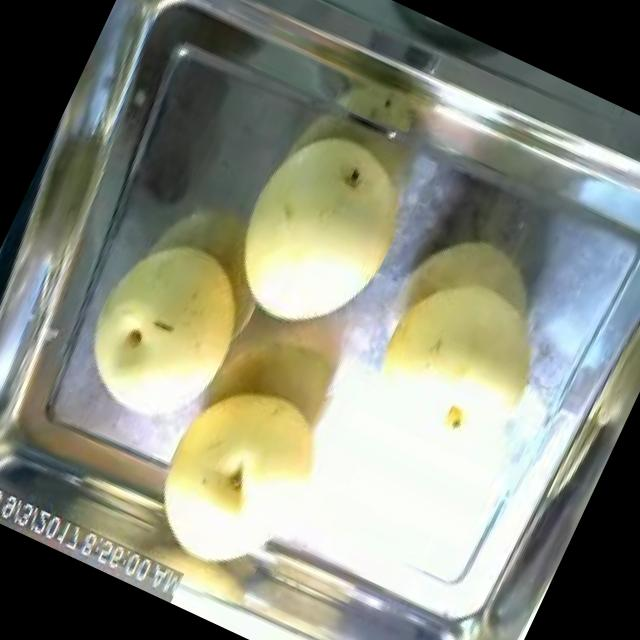Fruit: (202, 104, 438, 361), (352, 207, 590, 448), (126, 356, 350, 600), (57, 209, 275, 443)
